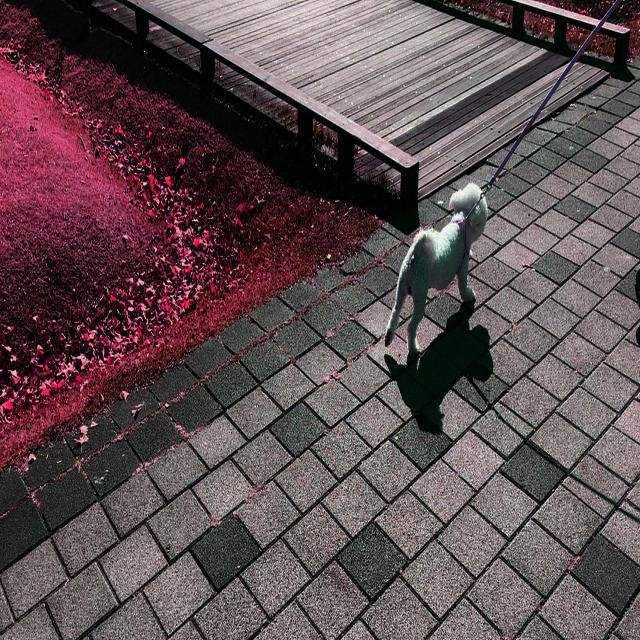Dog: (384, 182, 488, 355)
